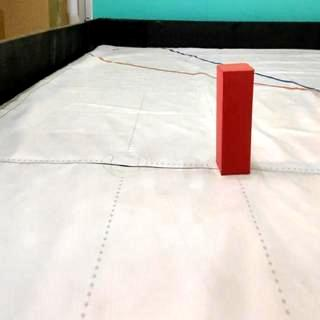redbox: (216, 62, 254, 175)
